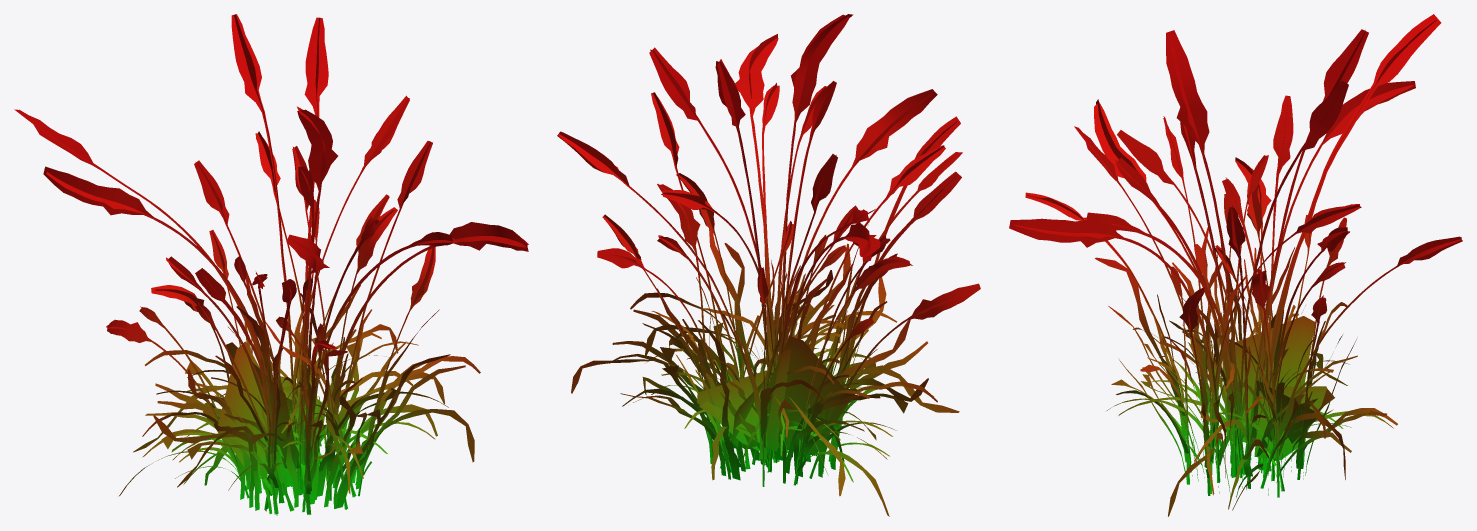
Rendered from slBm1_Var1_LOD0.fbx.
3 views of the same model, side by side, from view 1: azimuth 30°, elevation 25°; view 2: azimuth 150°, elevation 25°; view 3: azimuth 270°, elevation 25° (orthographic). The views are drawn at different scales.
Visible parts, largest first — view 1: _7050_Var1_LOD0; view 2: _7050_Var1_LOD0; view 3: _7050_Var1_LOD0.
Part boxes in pixels (x1,y1,x2,y2): _7050_Var1_LOD0: (14,14,528,515); _7050_Var1_LOD0: (557,14,980,516); _7050_Var1_LOD0: (1009,14,1462,516).
Bounding box in the file's own units: 46.41 × 54.22 × 50.25.
